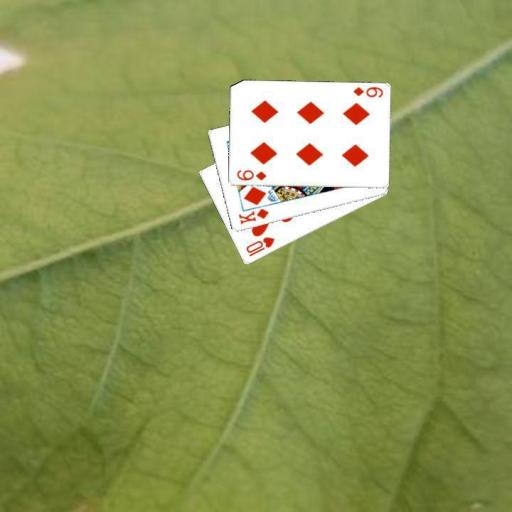card-corner: (242, 234, 276, 258), (236, 206, 270, 226), (234, 167, 268, 182), (350, 84, 384, 99)
